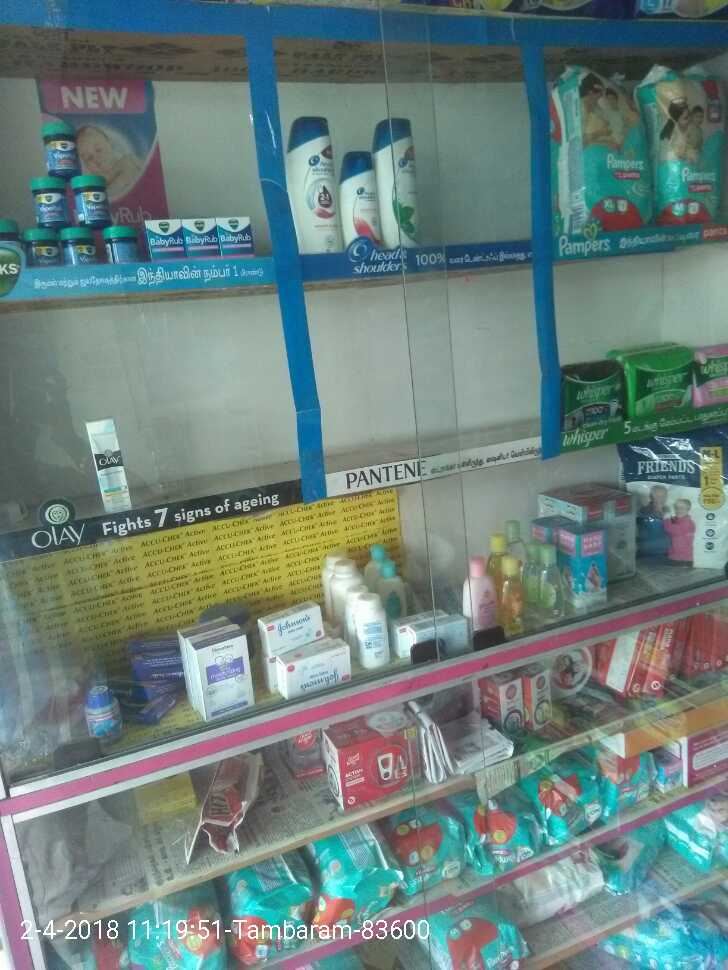vicks: (1, 118, 254, 255)
